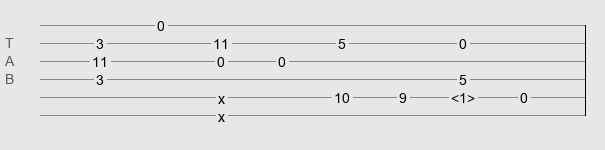0: (157, 18, 165, 28), (217, 54, 225, 64), (278, 54, 286, 64), (459, 36, 467, 46), (520, 90, 528, 100)
10: (334, 90, 350, 100)
11: (92, 54, 108, 64), (213, 36, 229, 46)
3: (96, 72, 104, 82), (96, 36, 104, 46)
5: (338, 36, 346, 46), (459, 72, 467, 82)
9: (399, 90, 407, 100)
harmonic: (451, 90, 475, 100)
x: (218, 109, 225, 117), (218, 91, 225, 99)
